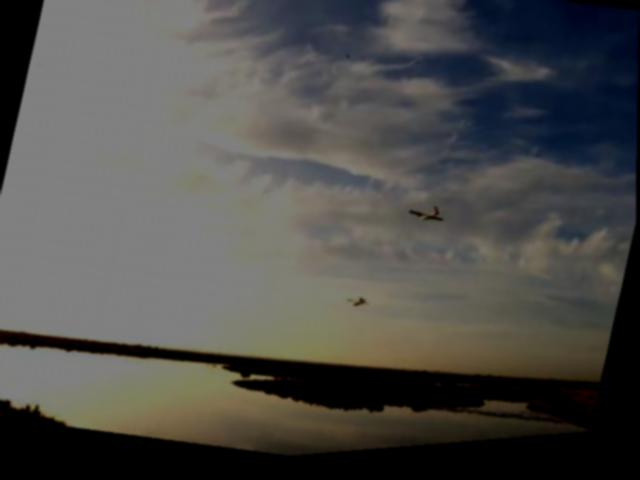uav: (403, 206, 450, 238), (342, 295, 373, 319)
